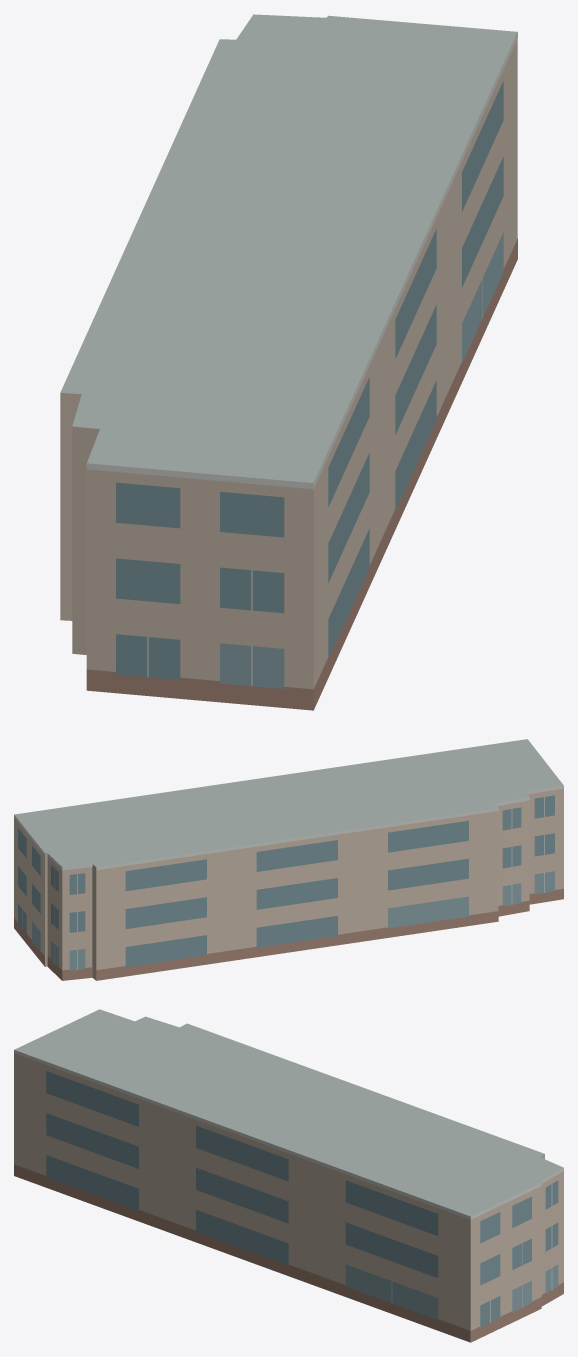
Rendered from survey-upis-32882819.glb.
3 views of the same model, one above another, from view 1: azimuth 30°, elevation 25°; view 2: azimuth 150°, elevation 25°; view 3: azimuth 270°, elevation 25° (orthographic). The views are drawn at different scales.
Parts seen in each view (by area): view 1: survey-upis-32882819.tmp; view 2: survey-upis-32882819.tmp; view 3: survey-upis-32882819.tmp.
Boxes of the visible parts, left/top/right/bottom form: survey-upis-32882819.tmp: left=60, top=14, right=517, bottom=710; survey-upis-32882819.tmp: left=14, top=739, right=563, bottom=980; survey-upis-32882819.tmp: left=14, top=1009, right=563, bottom=1342.
Size of the model in its own units: 32.25 by 9.15 by 36.15.
